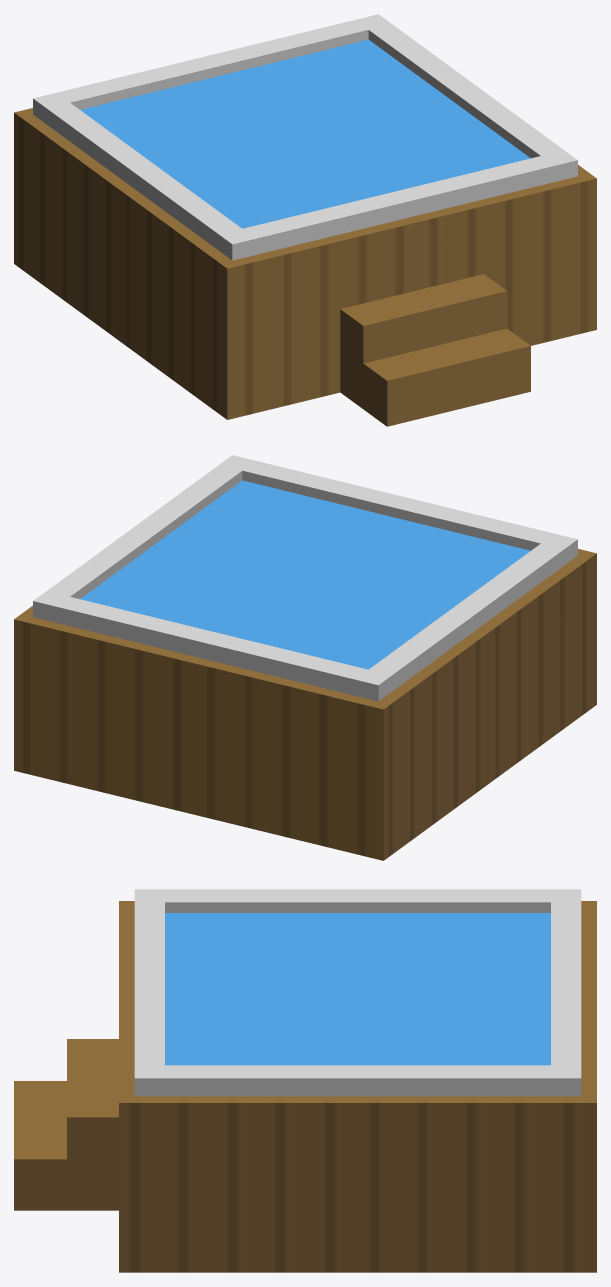
File: SM_Spa_Square_01.fbx
3 views of the same model, one above another, from view 1: azimuth 30°, elevation 25°; view 2: azimuth 150°, elevation 25°; view 3: azimuth 270°, elevation 25° (orthographic). The views are drawn at different scales.
Parts seen in each view (by area): view 1: SM_Spa_Square_01; view 2: SM_Spa_Square_01; view 3: SM_Spa_Square_01.
Part boxes in pixels (x1=…): SM_Spa_Square_01: x1=14, y1=14, x2=596, y2=426; SM_Spa_Square_01: x1=14, y1=455, x2=596, y2=860; SM_Spa_Square_01: x1=14, y1=889, x2=596, y2=1272.
Size of the model in its own units: 3.14 by 1.36 by 3.83.
